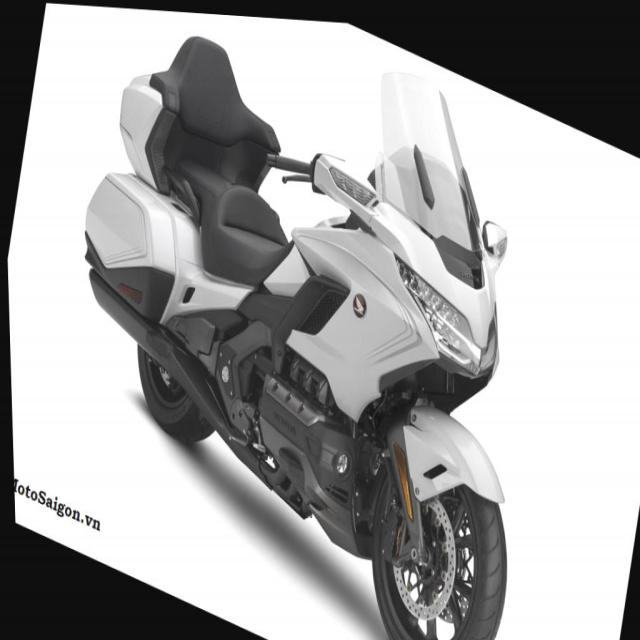Gold Wing: (24, 1, 588, 639)
